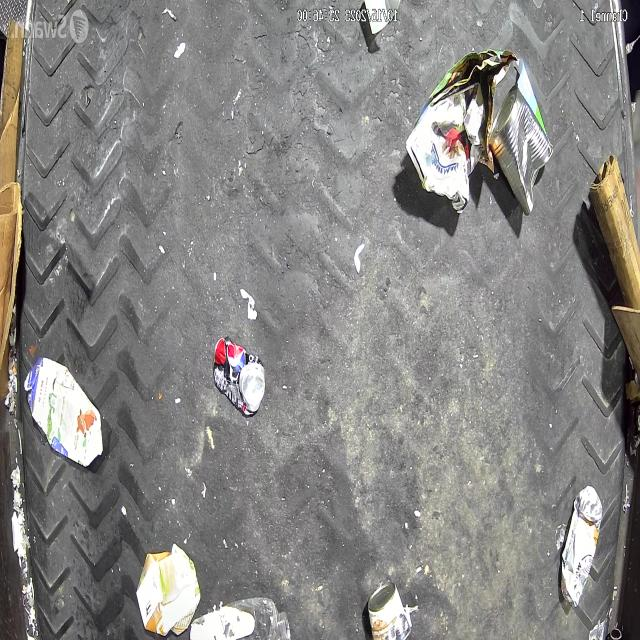can: (490, 81, 554, 212), (561, 484, 603, 608), (212, 336, 266, 417), (368, 583, 412, 640)
non_white_jug: (24, 357, 102, 467), (136, 543, 202, 637)
plastic_bottle: (190, 597, 291, 640)
